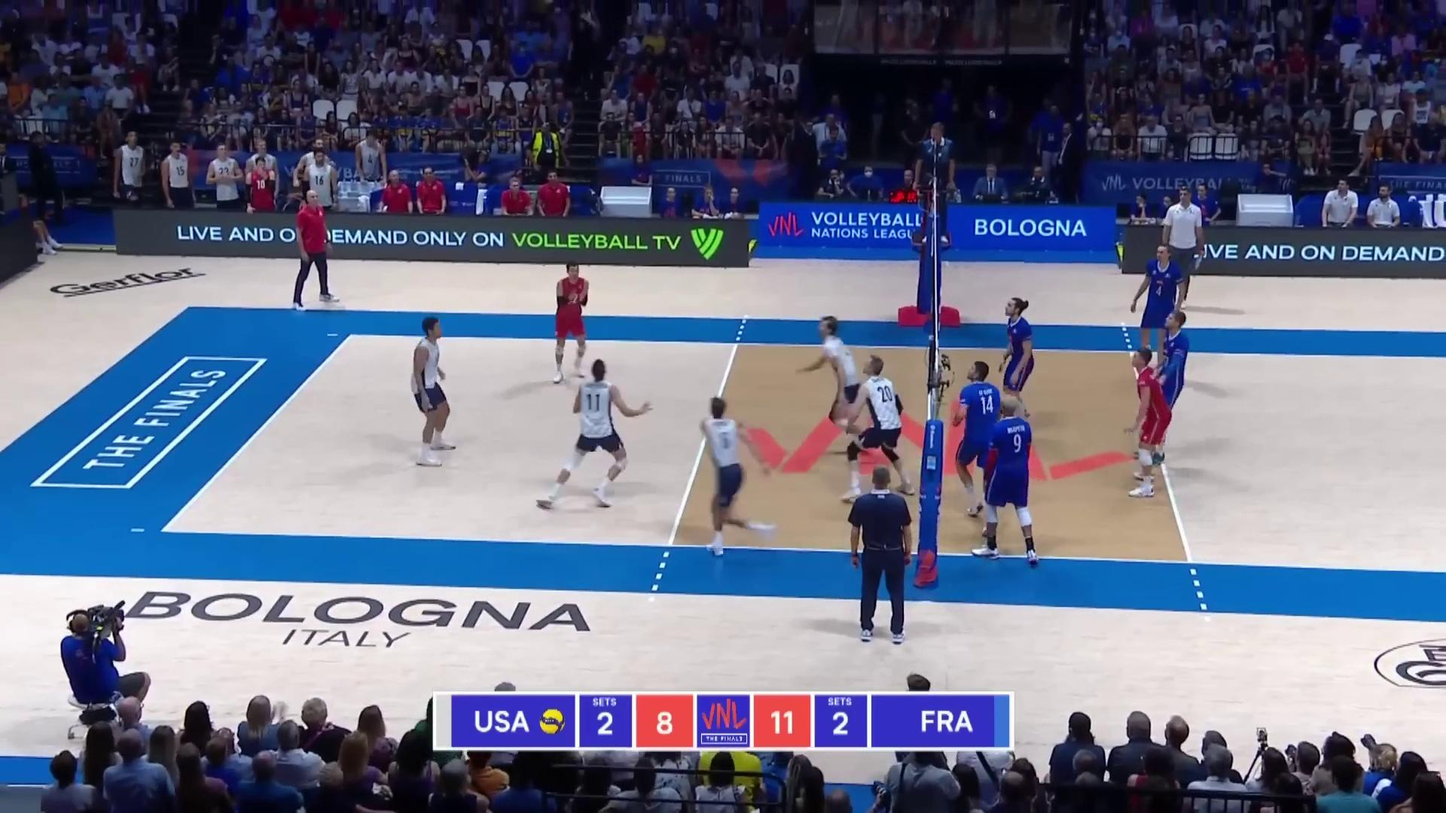player: (543, 361, 651, 512), (968, 395, 1043, 565), (698, 398, 778, 555), (838, 356, 914, 497), (949, 363, 1013, 519), (802, 319, 874, 451), (1130, 245, 1188, 379), (1121, 342, 1170, 499), (1149, 310, 1194, 475), (409, 318, 457, 468), (995, 293, 1046, 412), (553, 264, 590, 382)
refree: (839, 464, 913, 642), (914, 124, 955, 244)
